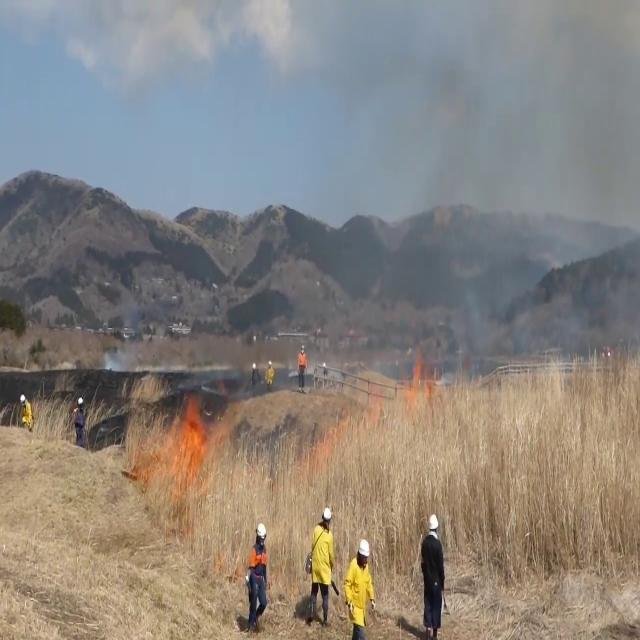Fire: (165, 393, 211, 466)
Smoke: (369, 1, 640, 394)
